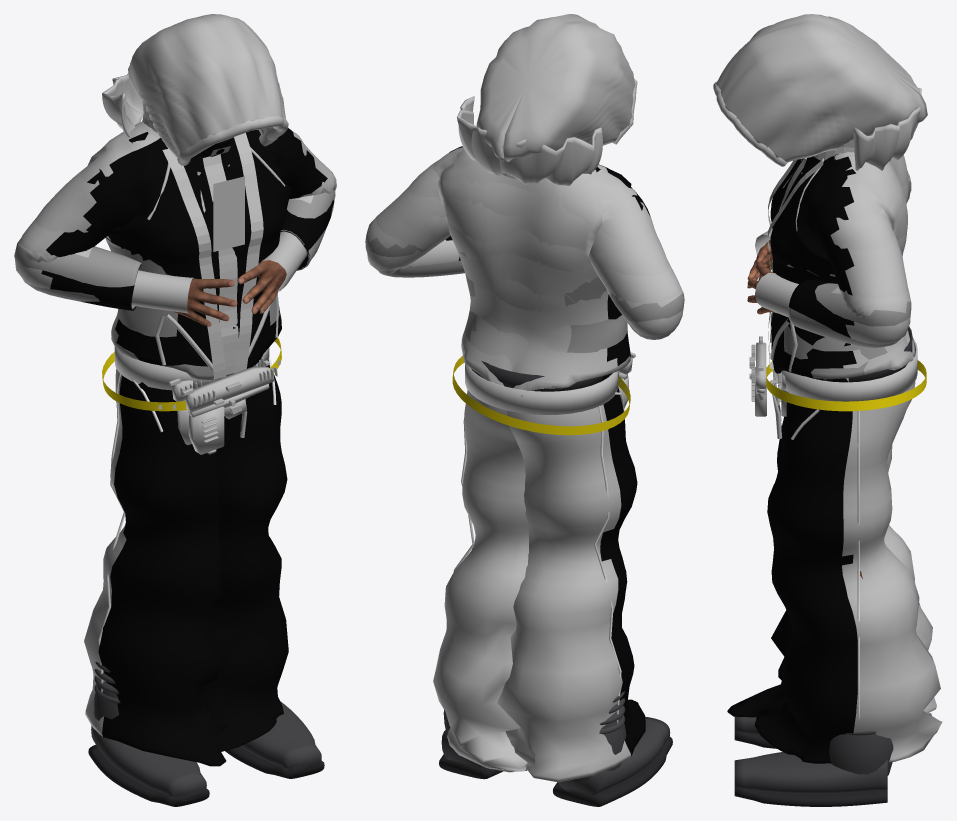
Rendered from avatar3d_m.glb.
The picture shows the model from 3 angles, left to right: view 1: azimuth 30°, elevation 25°; view 2: azimuth 150°, elevation 25°; view 3: azimuth 270°, elevation 25°; orthographic projection.
Visible parts, largest first — view 1: g_bottom, g_jacket, g_jacket_open, g_hood_up, g_zip_open, g_belt_gun, shoe_upper_r, body, shoe_upper_l, g_zip, g_zip_pull, g_jacket_cuff_r (+10 smaller); view 2: g_bottom, g_jacket_open, g_jacket, g_hood_up, g_hood, g_bottom_band, shoe_upper_r, g_belt, shoe_sole_r, g_underband, g_bottom_seam_-1, shoe_sole_l (+1 smaller); view 3: g_bottom, g_hood_up, g_jacket_open, g_jacket, shoe_upper_l, g_bottom_band, g_hood, shoe_shaft_l, shoe_sole_l, g_belt, g_jacket_cuff_l, body (+5 smaller).
Part boxes in pixels (left/top/right/bottom): g_bottom: left=84, top=360, right=288, bottom=766; g_jacket: left=14, top=125, right=336, bottom=380; g_jacket_open: left=14, top=121, right=335, bottom=379; g_hood_up: left=128, top=14, right=285, bottom=158; g_zip_open: left=162, top=133, right=263, bottom=379; g_belt_gun: left=185, top=366, right=273, bottom=454; shoe_upper_r: left=91, top=725, right=206, bottom=801; body: left=111, top=260, right=286, bottom=605; shoe_upper_l: left=240, top=701, right=321, bottom=772; g_zip: left=202, top=146, right=238, bottom=374; g_zip_pull: left=213, top=176, right=244, bottom=251; g_jacket_cuff_r: left=132, top=270, right=193, bottom=313; g_bottom: left=433, top=373, right=645, bottom=782; g_jacket_open: left=365, top=146, right=683, bottom=396; g_jacket: left=365, top=148, right=684, bottom=395; g_hood_up: left=476, top=14, right=635, bottom=161; g_hood: left=457, top=96, right=602, bottom=185; g_bottom_band: left=465, top=363, right=617, bottom=414; shoe_upper_r: left=558, top=717, right=670, bottom=795; g_belt: left=452, top=355, right=630, bottom=435; shoe_sole_r: left=553, top=737, right=672, bottom=806; g_underband: left=471, top=361, right=601, bottom=391; g_bottom_seam_-1: left=594, top=406, right=621, bottom=723; shoe_sole_l: left=439, top=754, right=502, bottom=779; g_bottom: left=727, top=361, right=942, bottom=763; g_hood_up: left=716, top=14, right=927, bottom=162; g_jacket_open: left=770, top=154, right=915, bottom=377; g_jacket: left=770, top=152, right=915, bottom=379; shoe_upper_l: left=734, top=752, right=887, bottom=793; g_bottom_band: left=774, top=338, right=917, bottom=401; g_hood: left=853, top=87, right=921, bottom=170; shoe_shaft_l: left=829, top=733, right=893, bottom=775; shoe_sole_l: left=734, top=786, right=887, bottom=806; g_belt: left=766, top=360, right=926, bottom=411; g_jacket_cuff_l: left=755, top=273, right=798, bottom=316; body: left=747, top=240, right=862, bottom=578.
Size of the model in its own units: 0.9182 by 2.08 by 0.5806.
Materials: 68 (9 with a texture image).
